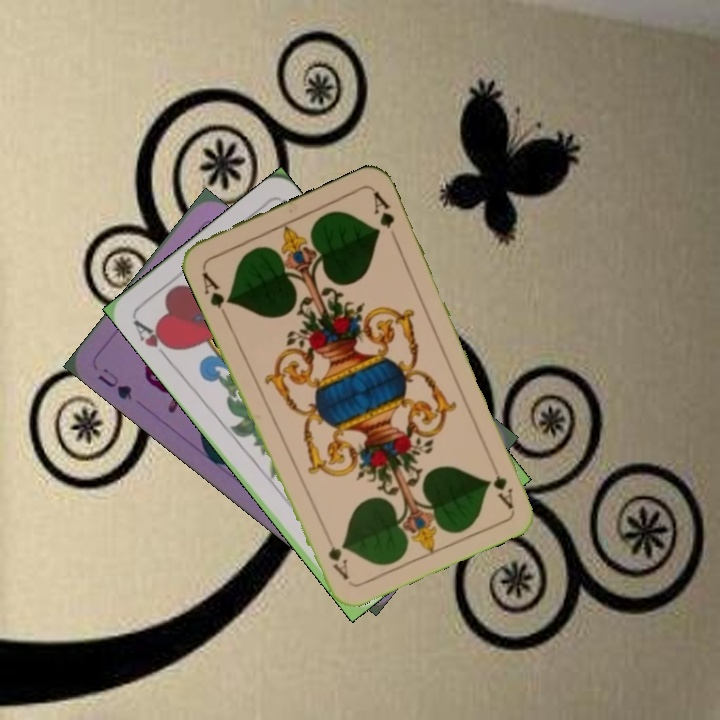GA: (198, 264, 235, 321), (485, 454, 516, 511)
GU: (94, 363, 135, 403)
HA: (129, 315, 178, 364)
